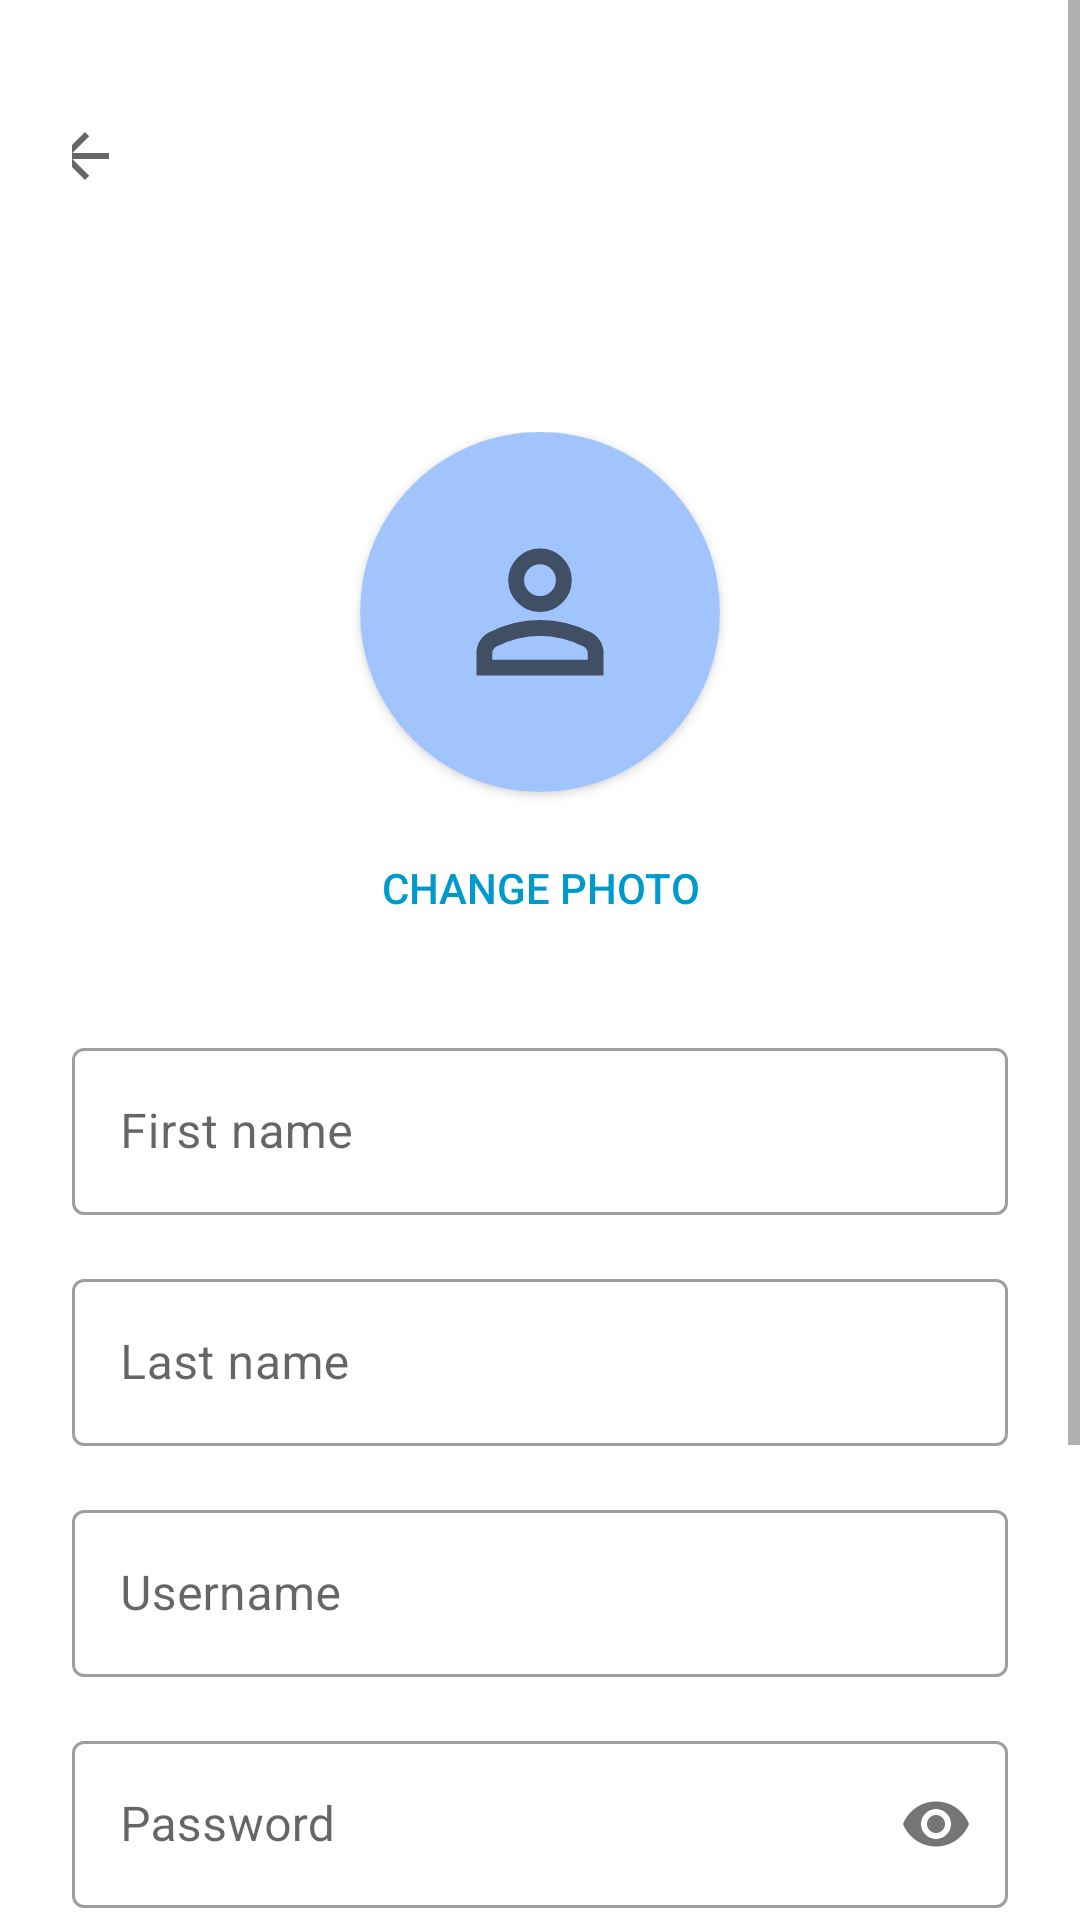

Named icons in this screenshot (1080x1920) and their centers, point (x, y):
Profile picture: point (540, 612)
